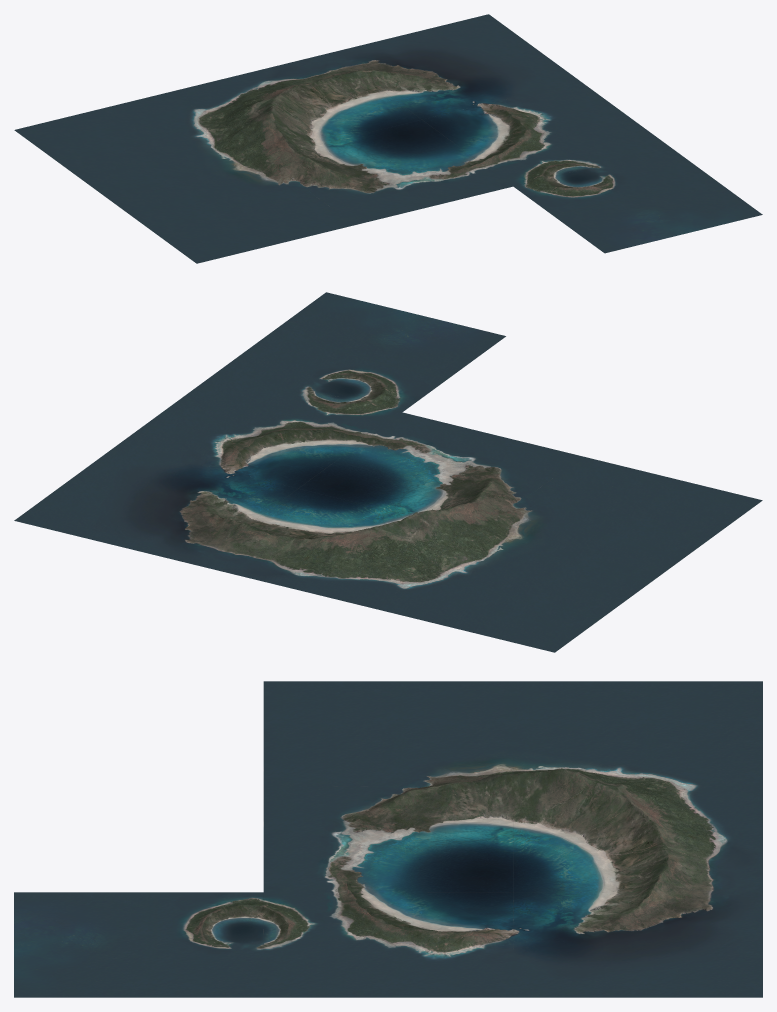
File: SOU_TERRAIN_A.FBX
3 renders of one model, top to bottom at view 1: azimuth 30°, elevation 25°; view 2: azimuth 150°, elevation 25°; view 3: azimuth 270°, elevation 25°, orthographic. The views are drawn at different scales.
Parts seen in each view (by area): view 1: SOU_TER_B03, SOU_TER_A02, SOU_TER_A04, SOU_TER_D02, SOU_TER_B04, SOU_TER_B02, SOU_TER_B01; view 2: SOU_TER_A02, SOU_TER_B01, SOU_TER_A04, SOU_TER_B04, SOU_TER_D02, SOU_TER_B02, SOU_TER_B03; view 3: SOU_TER_B01, SOU_TER_B03, SOU_TER_B02, SOU_TER_B04, SOU_TER_D02, SOU_TER_A04, SOU_TER_A02.
Boxes of the visible parts, x1,y1,x2,y2 form: SOU_TER_B03: [264, 119, 512, 224]; SOU_TER_A02: [14, 91, 262, 196]; SOU_TER_A04: [106, 151, 354, 263]; SOU_TER_D02: [513, 148, 762, 253]; SOU_TER_B04: [422, 81, 670, 186]; SOU_TER_B02: [331, 14, 579, 119]; SOU_TER_B01: [172, 53, 421, 150]; SOU_TER_A02: [375, 524, 658, 652]; SOU_TER_B01: [194, 488, 478, 608]; SOU_TER_A04: [479, 456, 762, 576]; SOU_TER_B04: [118, 368, 401, 488]; SOU_TER_D02: [222, 292, 505, 412]; SOU_TER_B02: [14, 444, 297, 564]; SOU_TER_B03: [298, 412, 582, 523]; SOU_TER_B01: [513, 768, 762, 892]; SOU_TER_B03: [263, 773, 513, 892]; SOU_TER_B02: [513, 879, 762, 997]; SOU_TER_B04: [263, 891, 513, 997]; SOU_TER_D02: [14, 892, 263, 997]; SOU_TER_A04: [263, 681, 513, 786]; SOU_TER_A02: [513, 681, 762, 786].
Bounding box in the file's own units: 150000 × 7978 × 150000.
Materials: 14 (14 with a texture image).
